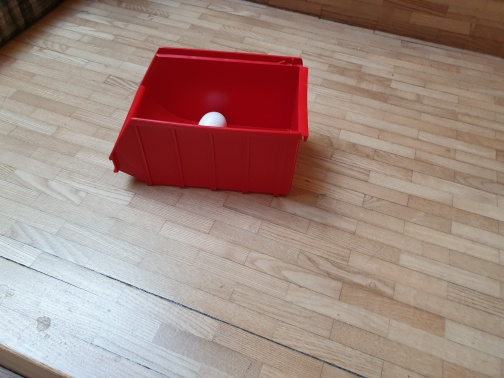tray_right: (109, 118, 311, 197)
